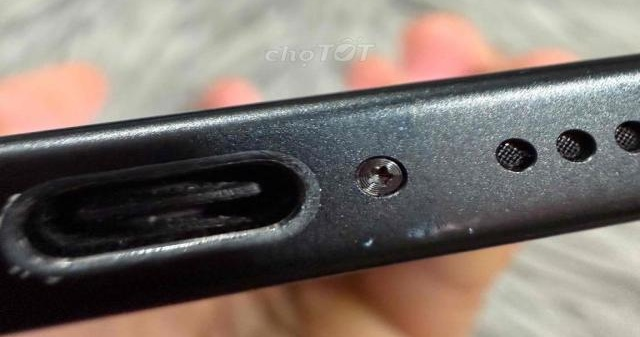scratch: (364, 216, 498, 251)
